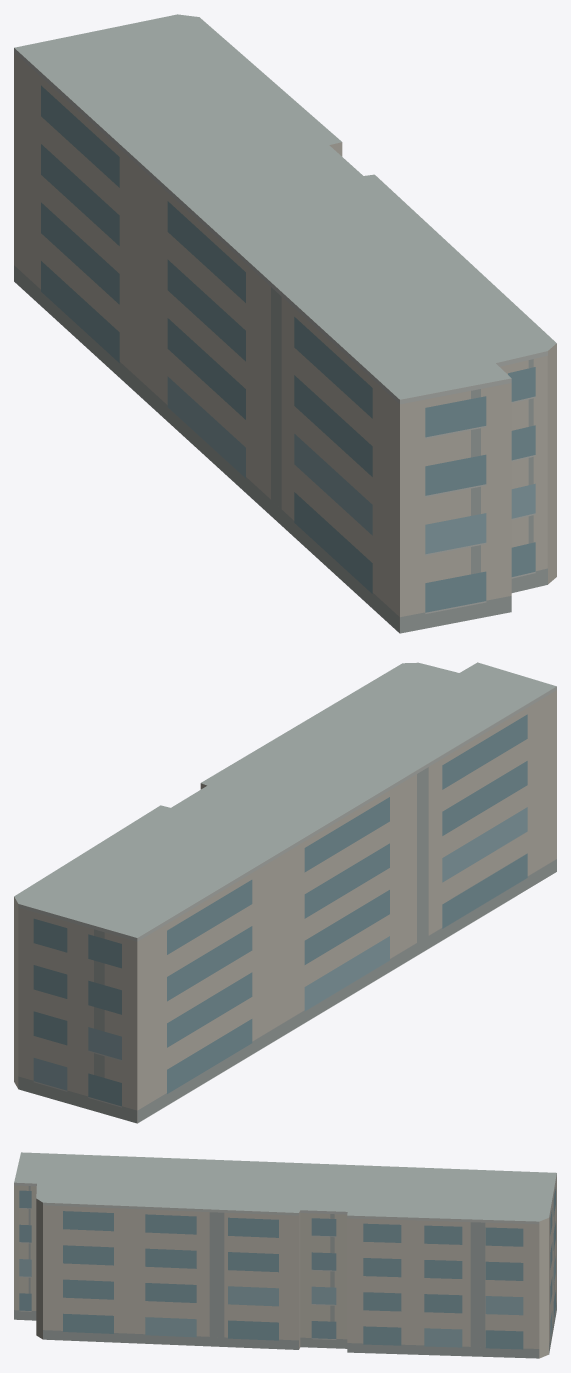
File: survey-upis-32466398.glb
The picture shows the model from 3 angles, top to bottom: view 1: azimuth 30°, elevation 25°; view 2: azimuth 150°, elevation 25°; view 3: azimuth 270°, elevation 25°; orthographic projection. The views are drawn at different scales.
Visible parts, largest first — view 1: survey-upis-32466398.tmp; view 2: survey-upis-32466398.tmp; view 3: survey-upis-32466398.tmp.
Boxes of the visible parts, x1,y1,x2,y2 form: survey-upis-32466398.tmp: [14, 14, 556, 633]; survey-upis-32466398.tmp: [14, 662, 556, 1123]; survey-upis-32466398.tmp: [14, 1152, 556, 1358].
Size of the model in its own units: 13.22 by 12.2 by 43.83.
